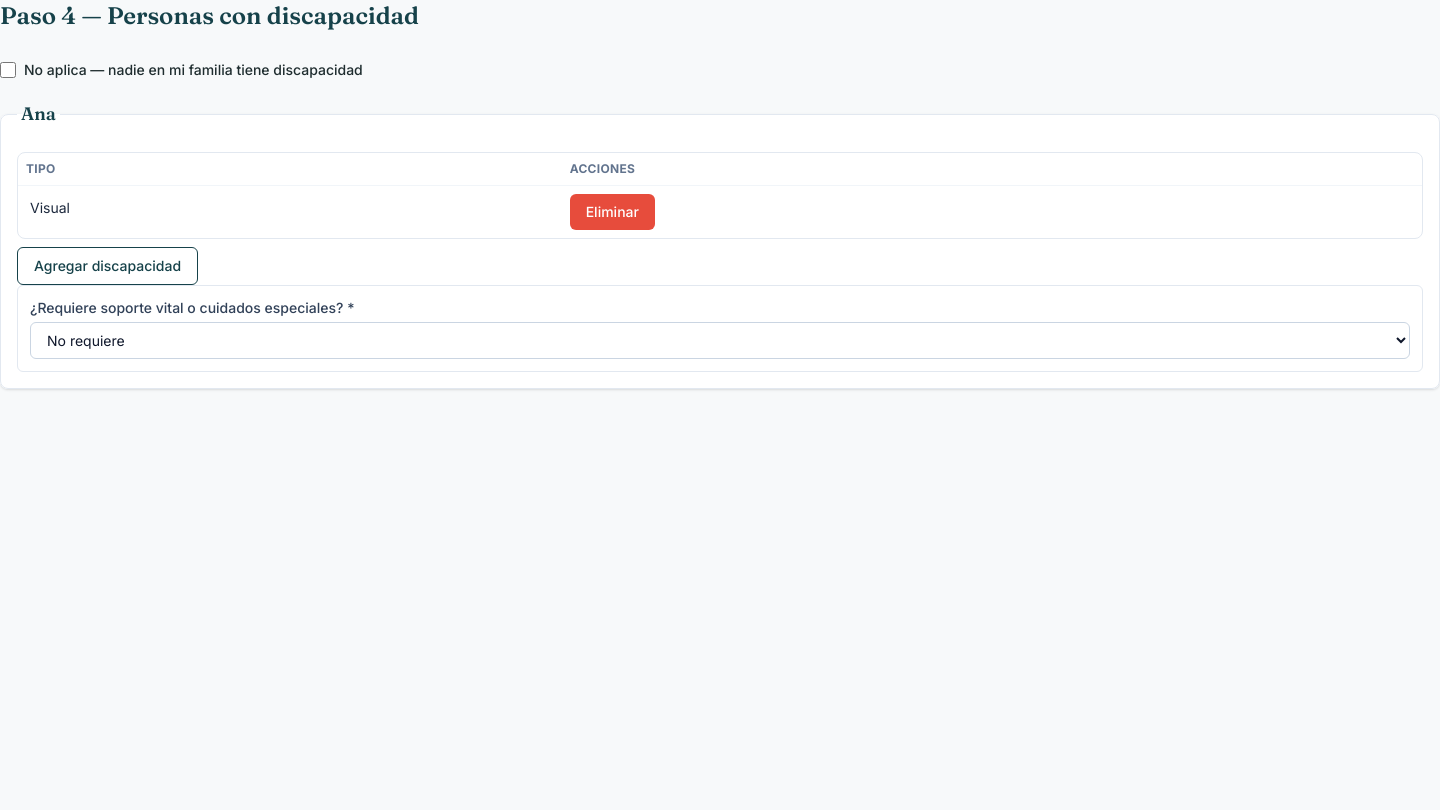
Test case: Step4Disabilities › marking 'no aplica' with existing disabilities asks for confirmation and clears them
What coordinates should you click on to do the following:
click the checkbox labelled "No aplica — nadie en mi familia tiene discapacidad"
I would click on:
 (8, 70)
Its box is [0,62,16,78].
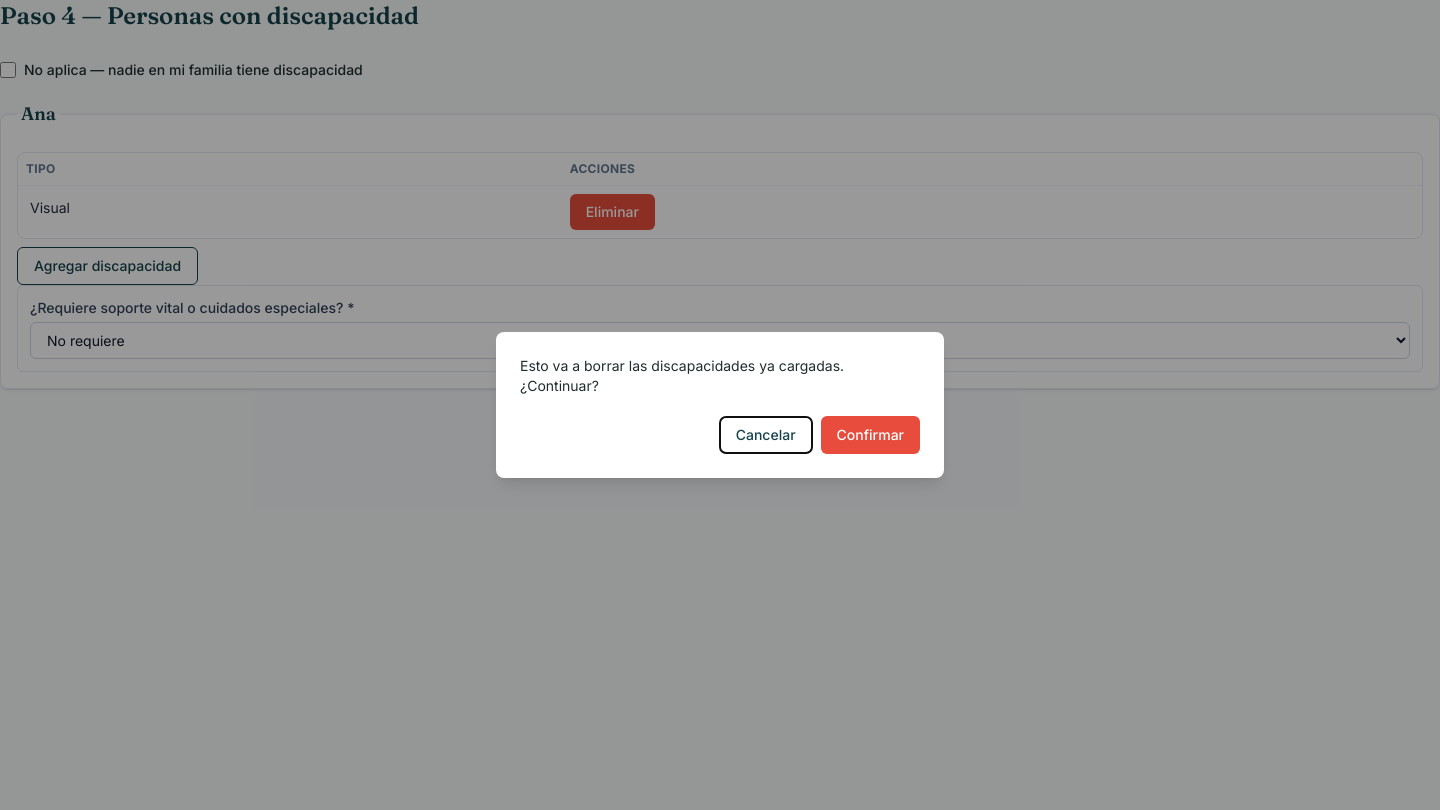
What coordinates should you click on to do the following:
click the button "Confirmar"
I would click on:
 (870, 435)
Its box is [821,416,920,454].
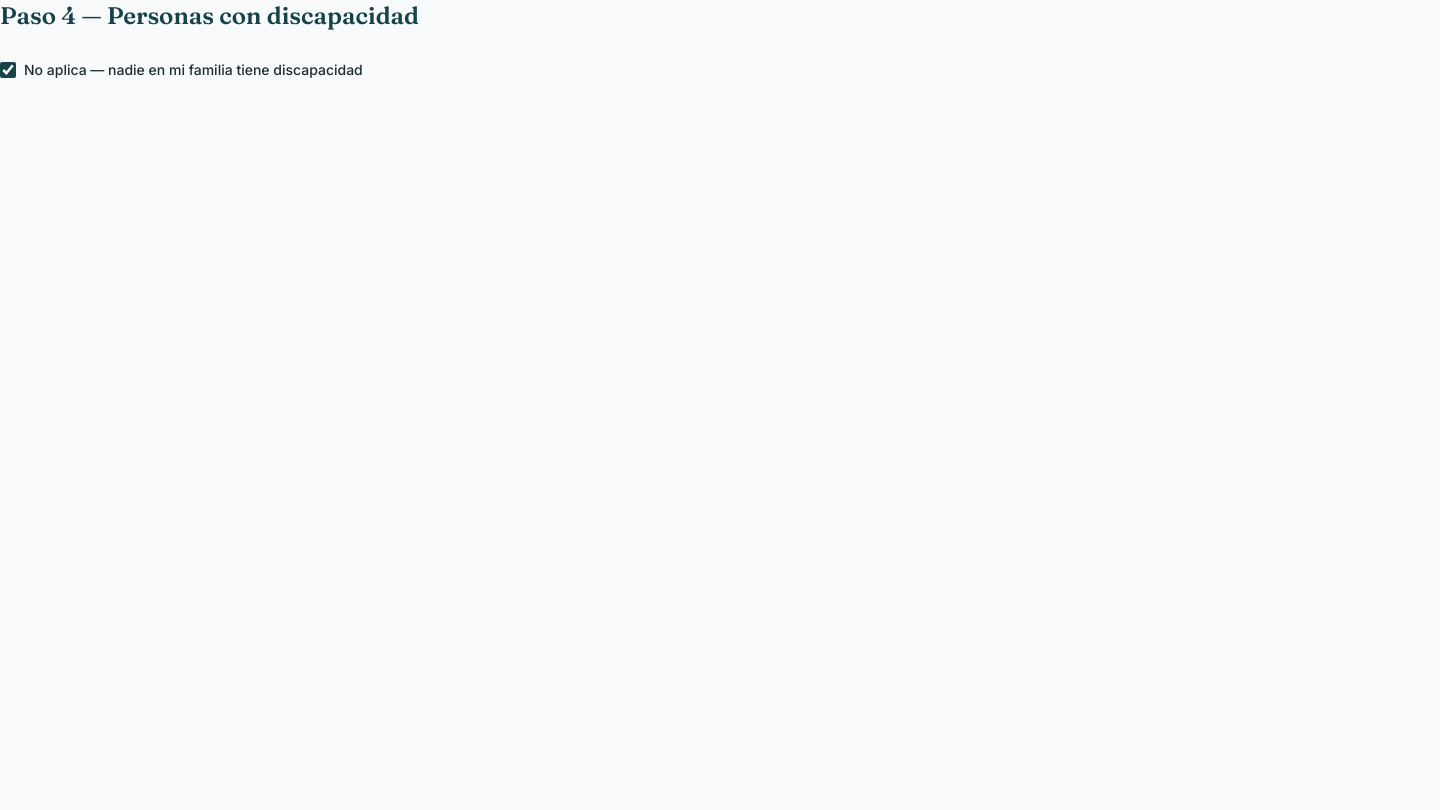
Result: the text "Ana" is gone
